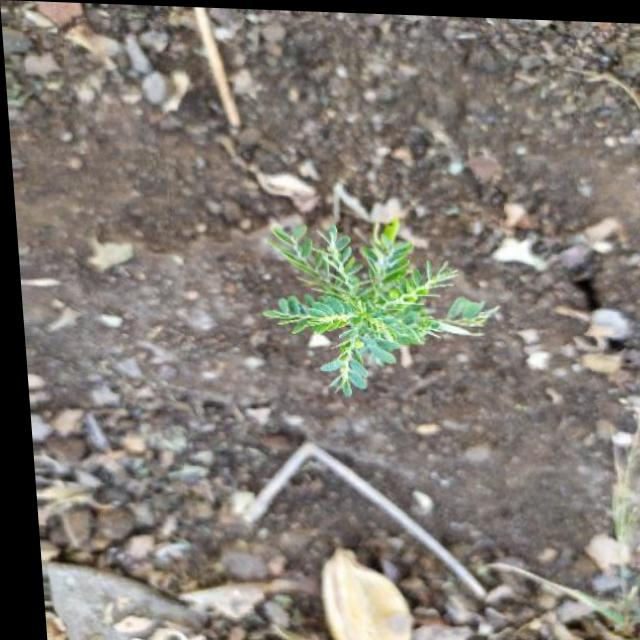weed: (252, 196, 499, 395)
